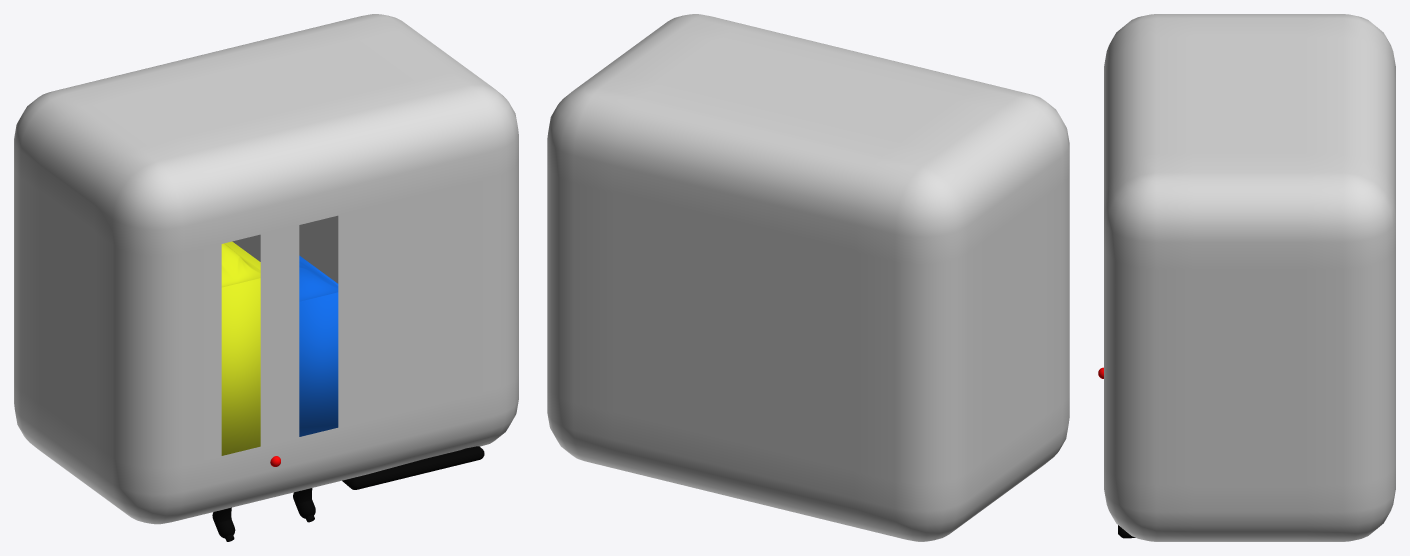
The model's file is washbottle.FBX.
3 renders of one model, left to right at view 1: azimuth 30°, elevation 25°; view 2: azimuth 150°, elevation 25°; view 3: azimuth 270°, elevation 25°, orthographic. The views are drawn at different scales.
Visible parts, largest first — view 1: Cube, Cube_1, Cube_, Plane_2, towel_vent, Landscape, Lands; view 2: Cube; view 3: Cube.
Part boxes in pixels (x1,y1,x2,y2): Cube: (14, 14, 518, 524); Cube_1: (221, 241, 260, 455); Cube_: (299, 255, 338, 436); Plane_2: (299, 215, 338, 283); towel_vent: (342, 446, 484, 489); Landscape: (221, 243, 260, 287); Lands: (299, 258, 338, 301); Cube: (547, 14, 1069, 541); Cube: (1104, 14, 1395, 541).
Size of the model in its own units: 153 by 140 by 97.18.
